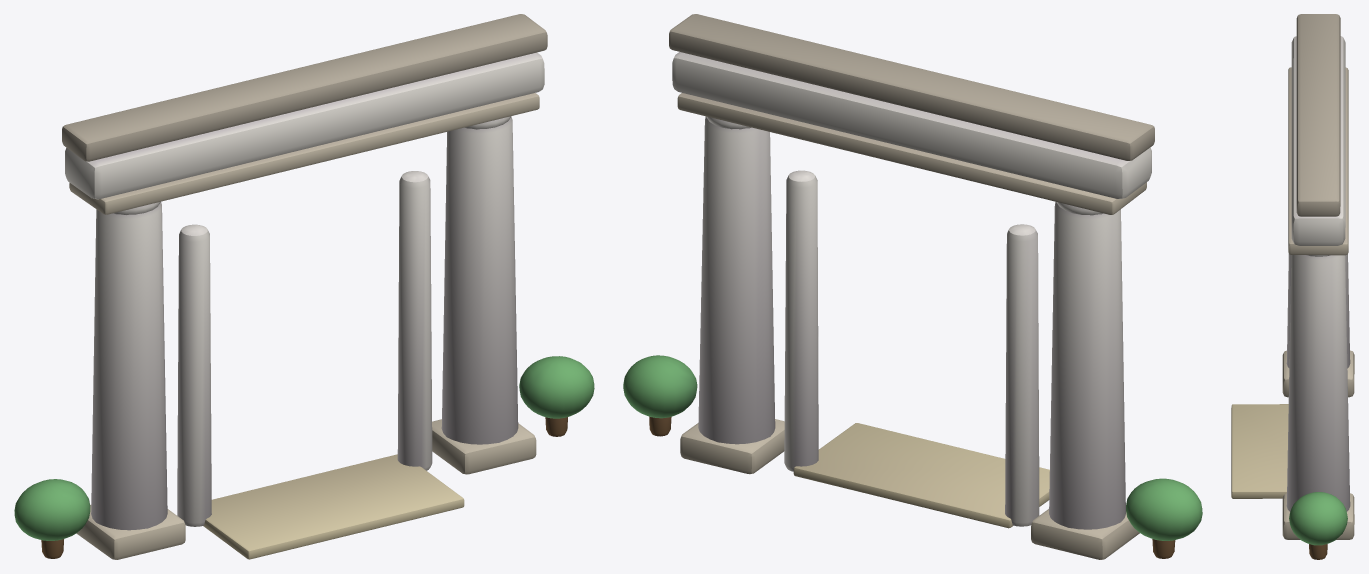
3 views of the same model, side by side, from view 1: azimuth 30°, elevation 25°; view 2: azimuth 150°, elevation 25°; view 3: azimuth 270°, elevation 25° (orthographic). The views are drawn at different scales.
Visible parts, largest first — view 1: gate_8affac31; view 2: gate_8affac31; view 3: gate_8affac31.
Part boxes in pixels (x1=…): gate_8affac31: x1=14, y1=14, x2=594, y2=559; gate_8affac31: x1=623, y1=14, x2=1202, y2=559; gate_8affac31: x1=1231, y1=14, x2=1354, y2=559.
Bounding box in the file's own units: 6.33 × 4.43 × 1.42.
